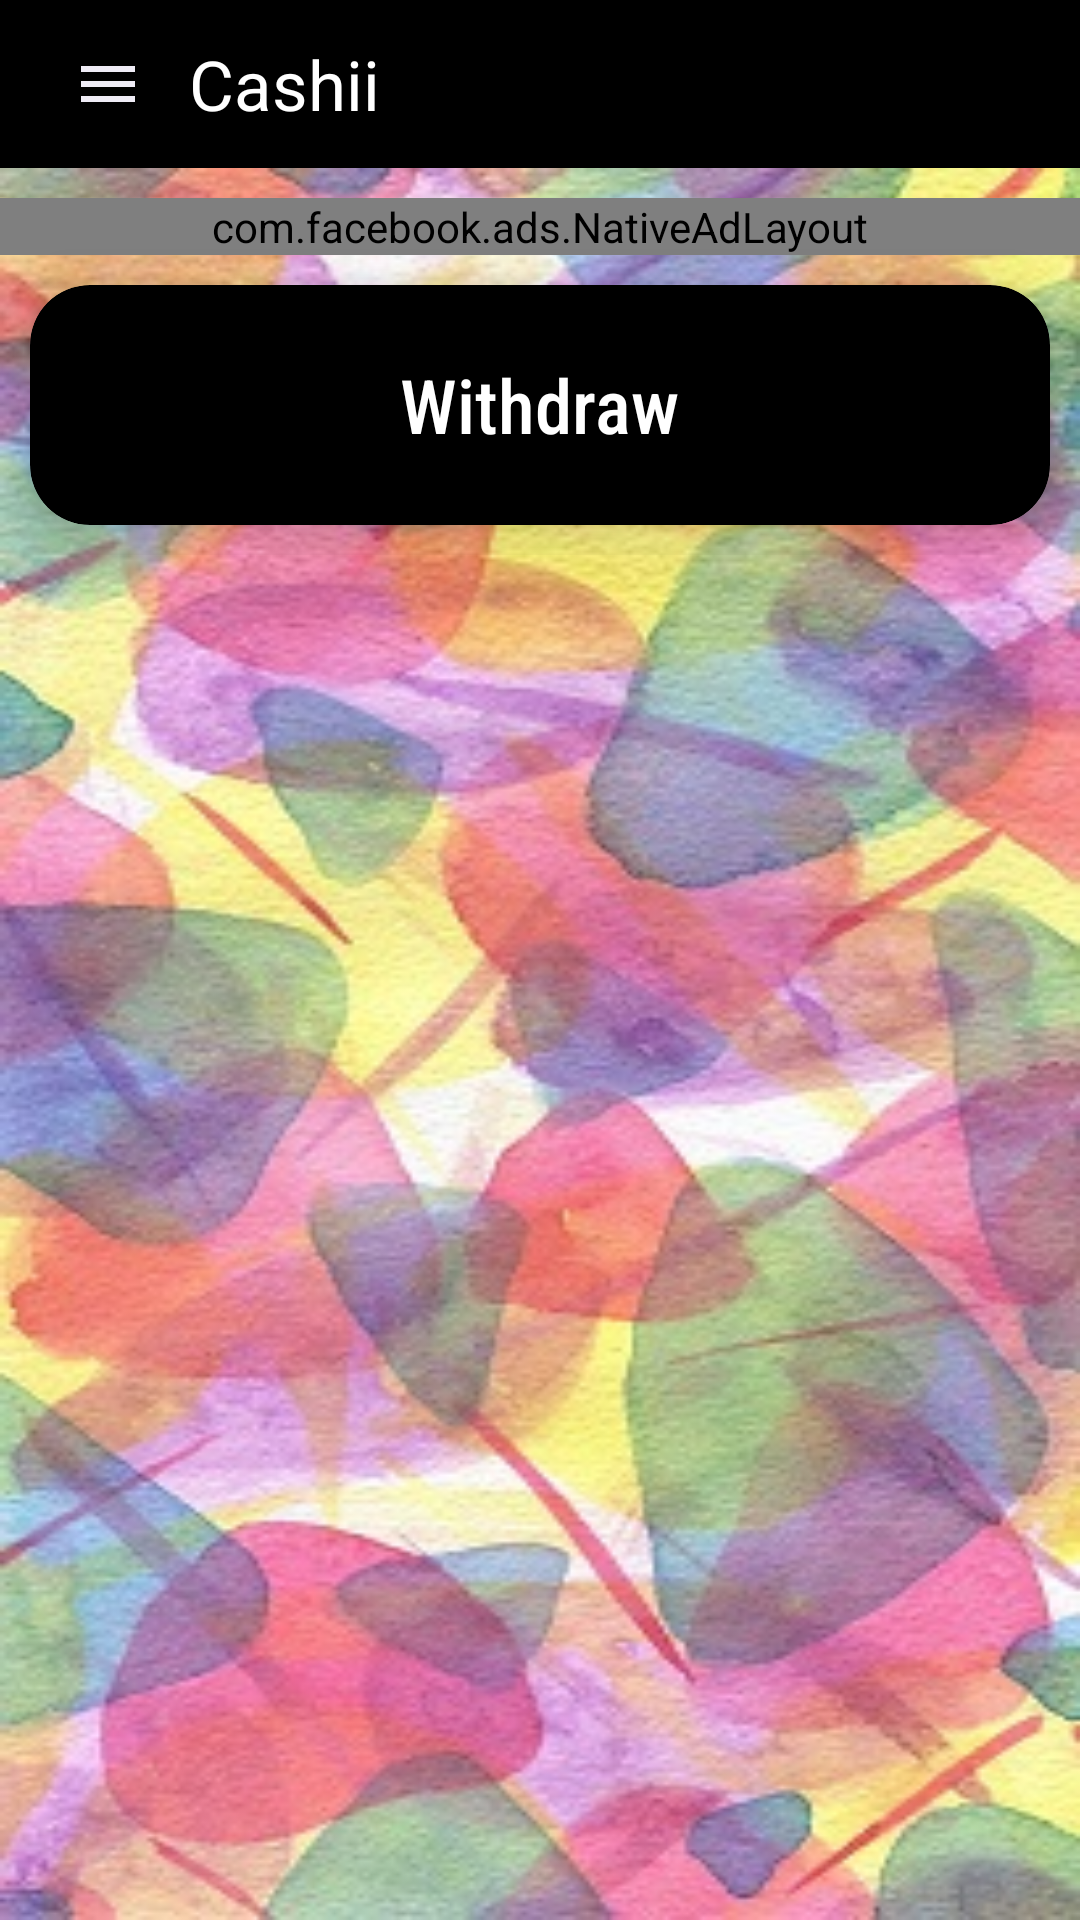

Locate icon controls on the screen. Image size 1080x1920, boxes as (x1, y1, x2, y2).
menu: (81, 66, 135, 102)
